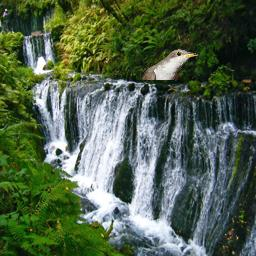Cuckoo: (141, 49, 199, 80)
